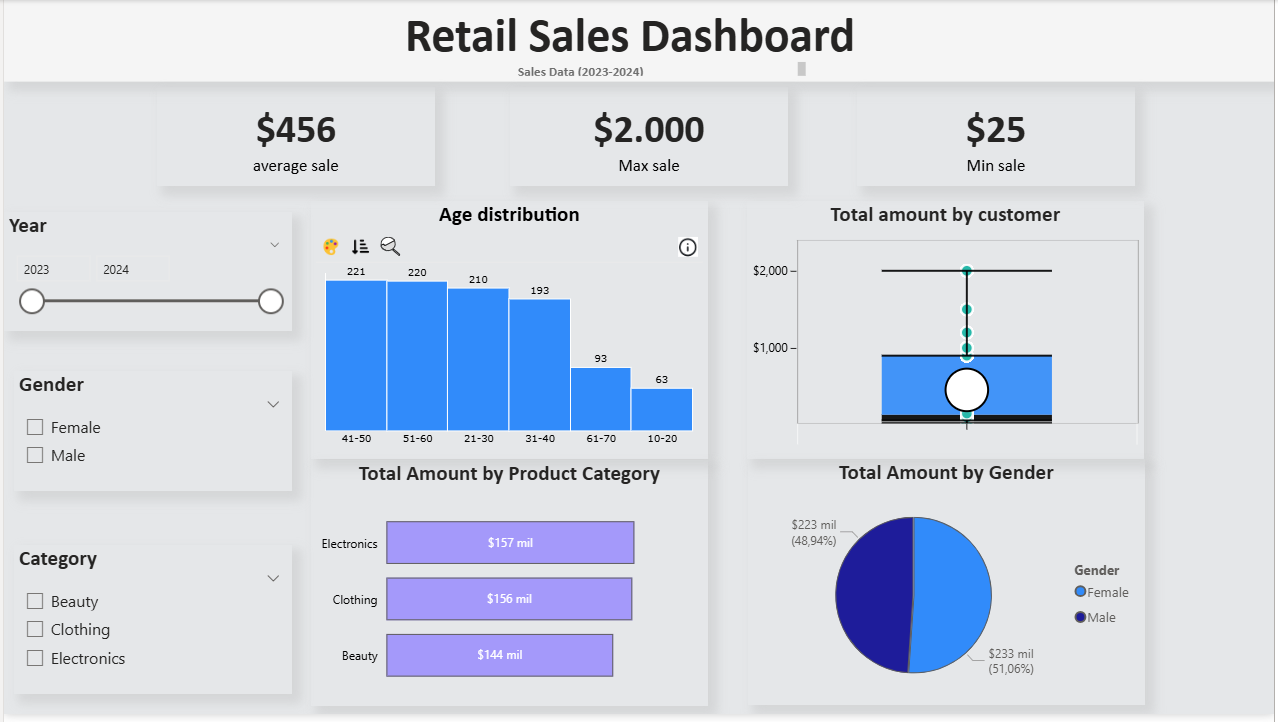

Layout of this report page (visuals, bound fields, positions):
{"tool":"powerbi","page":{"name":"Página 1","canvas":[1280,720],"ordinal":0},"visuals":[{"type":"shape","box":[0,0,1280,82],"z":0},{"type":"histogramF963F133BA02A0B35D286F09F80E9C78","title":"Age distribution","fields":{"col_2":["retail_sales_dataset__2.Age group"],"col_3":["retail_sales_dataset__2.Customer ID"]},"box":[309.6,202.4,400,260],"z":1000},{"type":"BoxandWhiskerByMAQ1823AD39DT234AB532063E128AX","title":"Total amount by customer","fields":{"category":["retail_sales_dataset__2.Customer ID"],"measure":["Sum(retail_sales_dataset__2.Total Amount)"]},"box":[749.1,202.1,400,260],"z":2000},{"type":"clusteredBarChart","title":"Total Amount by Product Category","fields":{"Category":["retail_sales_dataset__2.Product Category"],"Y":["Sum(retail_sales_dataset__2.Total Amount)"]},"box":[309.8,463.1,399.7,248.4],"z":3000},{"type":"pieChart","title":"Total Amount by Gender","fields":{"Category":["retail_sales_dataset__2.Gender"],"Y":["Sum(retail_sales_dataset__2.Total_amount)"]},"box":[749.4,462.9,399.7,248.4],"z":4000},{"type":"card","fields":{"Values":["retail_sales_dataset__2.average sale"]},"box":[153.8,88,280,100],"z":5000},{"type":"card","fields":{"Values":["retail_sales_dataset__2.Max sale"]},"box":[510,88,280,100],"z":6000},{"type":"card","fields":{"Values":["retail_sales_dataset__2.Min sale"]},"box":[860.1,87.8,280.2,100.2],"z":7000},{"type":"slicer","title":"Year","fields":{"Values":["Calendario.Año"]},"box":[0,213.7,290.4,119.6],"z":8000},{"type":"slicer","title":"Gender","fields":{"Values":["retail_sales_dataset__2.Gender"]},"box":[10.2,374.2,280.1,120.6],"z":9000},{"type":"slicer","title":"Category","fields":{"Values":["retail_sales_dataset__2.Product Category"]},"box":[10.2,549,280.1,150.3],"z":10000},{"type":"textbox","box":[10.1,0,1241.5,74.9],"z":11000},{"type":"textbox","box":[513,57.7,299.5,24.3],"z":12000}]}

Visuals, with their boxes in screenshot pixels (x1, y1, x2, y2), scaled from the page's 1280x720 canvas onto the 1278x722 screenshot:
shape: region(0, 0, 1277, 82)
"Age distribution" histogramF963F133BA02A0B35D286F09F80E9C78: region(309, 203, 708, 464)
"Total amount by customer" BoxandWhiskerByMAQ1823AD39DT234AB532063E128AX: region(748, 203, 1147, 463)
"Total Amount by Product Category" clusteredBarChart: region(309, 464, 708, 713)
"Total Amount by Gender" pieChart: region(748, 464, 1147, 713)
card - retail_sales_dataset__2.average sale: region(154, 88, 433, 189)
card - retail_sales_dataset__2.Max sale: region(509, 88, 789, 189)
card - retail_sales_dataset__2.Min sale: region(859, 88, 1139, 189)
"Year" slicer: region(0, 214, 290, 334)
"Gender" slicer: region(10, 375, 290, 496)
"Category" slicer: region(10, 551, 290, 701)
textbox: region(10, 0, 1250, 75)
textbox: region(512, 58, 811, 82)
